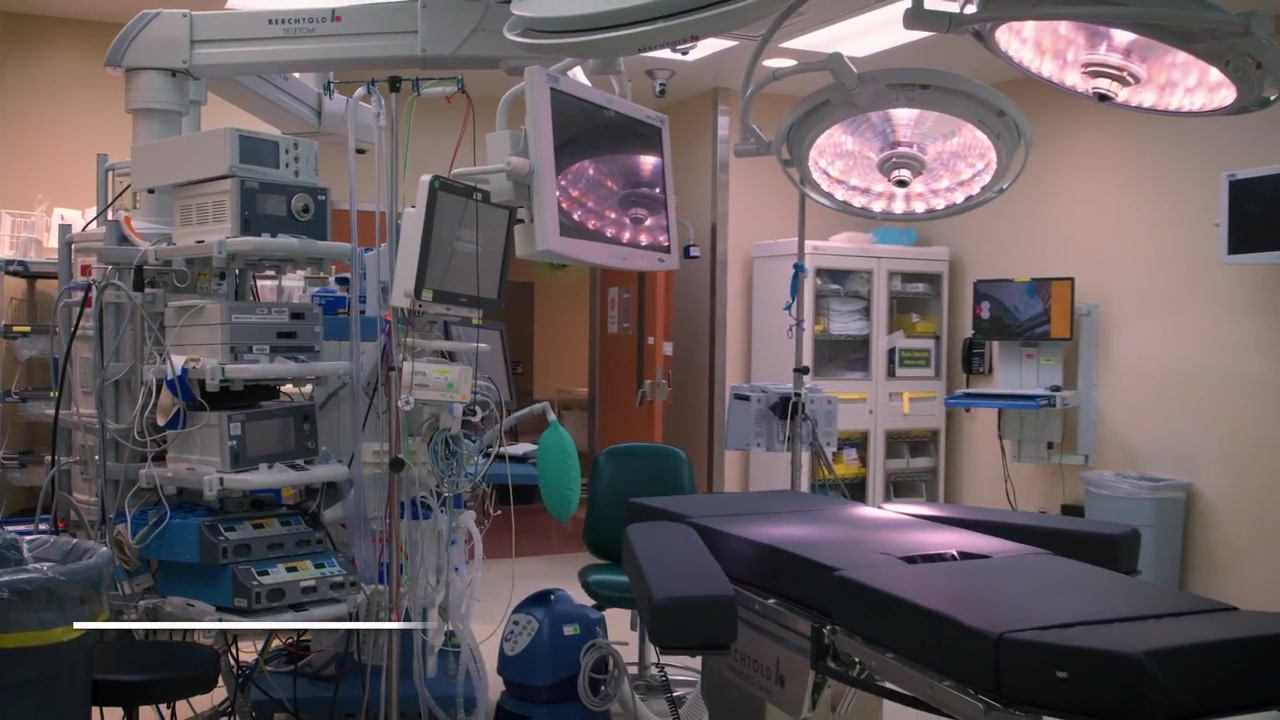bedside_monitor: (526, 65, 678, 273), (389, 171, 518, 311), (1219, 165, 1280, 264)
breathing_tube: (386, 492, 489, 720)
cabinet: (754, 242, 939, 501)
chair: (577, 441, 693, 699), (89, 639, 220, 720)
computer: (441, 319, 519, 411), (972, 275, 1074, 340)
door_handle: (655, 367, 674, 400), (635, 380, 651, 410)
electrosurgical_unit: (128, 507, 338, 572), (140, 550, 363, 610)
iv_pole: (322, 74, 467, 720), (789, 190, 811, 491)
keyboard: (944, 394, 1051, 411)
mouse: (1046, 381, 1062, 392)
operating_bed: (621, 490, 1280, 720)
surgical_light: (773, 68, 1035, 222), (970, 1, 1280, 118)
telephone: (961, 338, 992, 378)
waste_bin: (1, 532, 116, 720), (1078, 466, 1190, 591)
